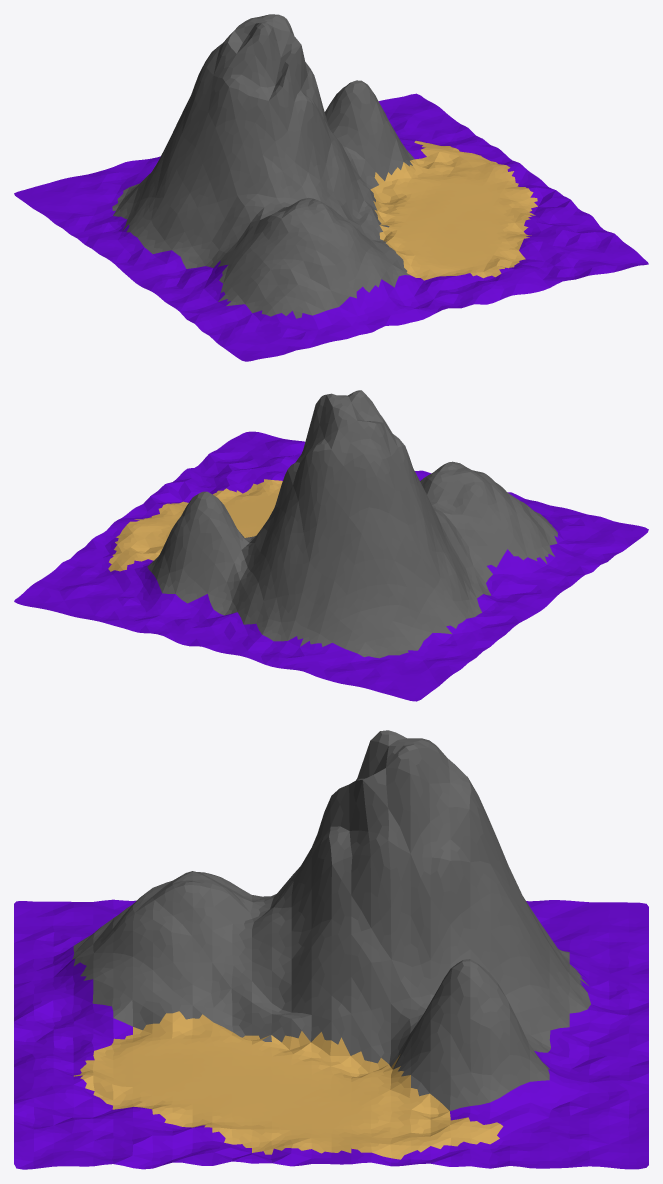
Rendered from LowPolyTerrain.fbx.
The picture shows the model from 3 angles, top to bottom: view 1: azimuth 30°, elevation 25°; view 2: azimuth 150°, elevation 25°; view 3: azimuth 270°, elevation 25°; orthographic projection. The views are drawn at different scales.
Visible parts, largest first — view 1: Plane; view 2: Plane; view 3: Plane.
Part boxes in pixels (x1=…): Plane: x1=14, y1=14, x2=648, y2=361; Plane: x1=14, y1=390, x2=648, y2=701; Plane: x1=14, y1=730, x2=648, y2=1169.
Size of the model in its own units: 2000 by 954 by 2000.
